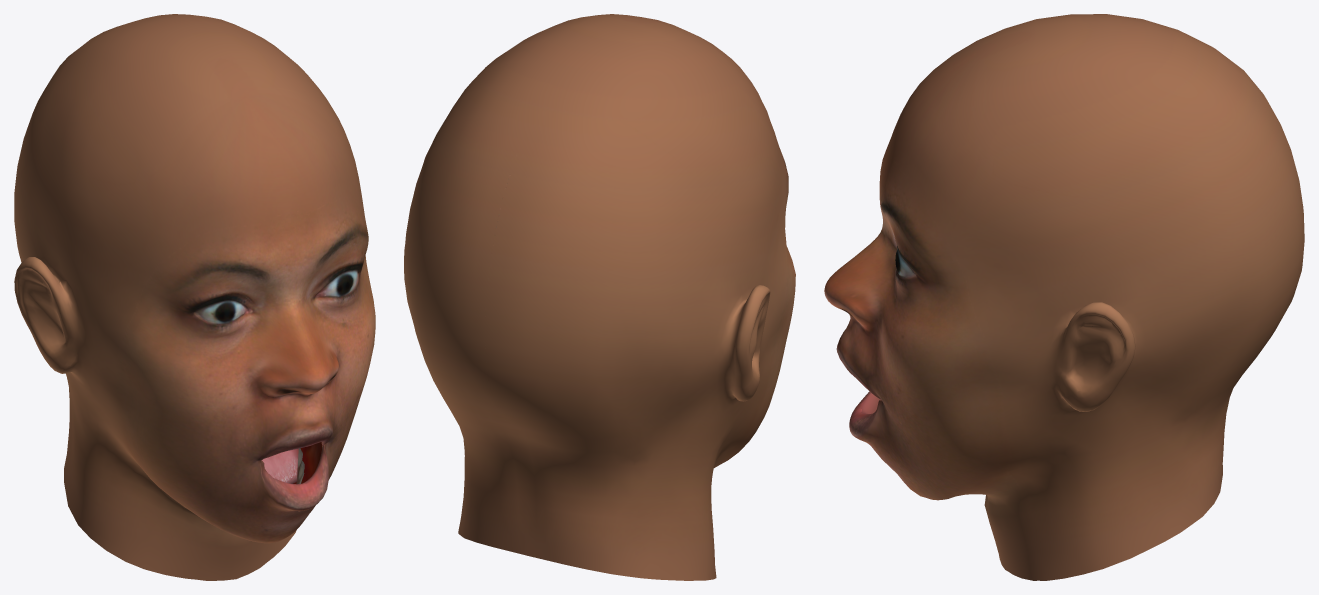
Rendered from v332_obj_Phonemebigaah.obj.
3 views of the same model, side by side, from view 1: azimuth 30°, elevation 25°; view 2: azimuth 150°, elevation 25°; view 3: azimuth 270°, elevation 25° (orthographic). The views are drawn at different scales.
Parts seen in each view (by area): view 1: HeadHires, Mouth; view 2: HeadHires; view 3: HeadHires.
Boxes of the visible parts, box(x1,y1,x2,y2) form: HeadHires: box(14, 14, 375, 580); Mouth: box(261, 442, 322, 484); HeadHires: box(404, 14, 795, 580); HeadHires: box(824, 14, 1304, 580).
Bounding box in the file's own units: 187 × 284 × 233.
